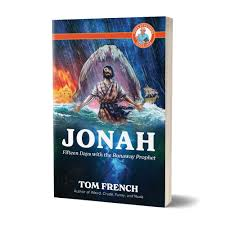book: (51, 15, 174, 207)
